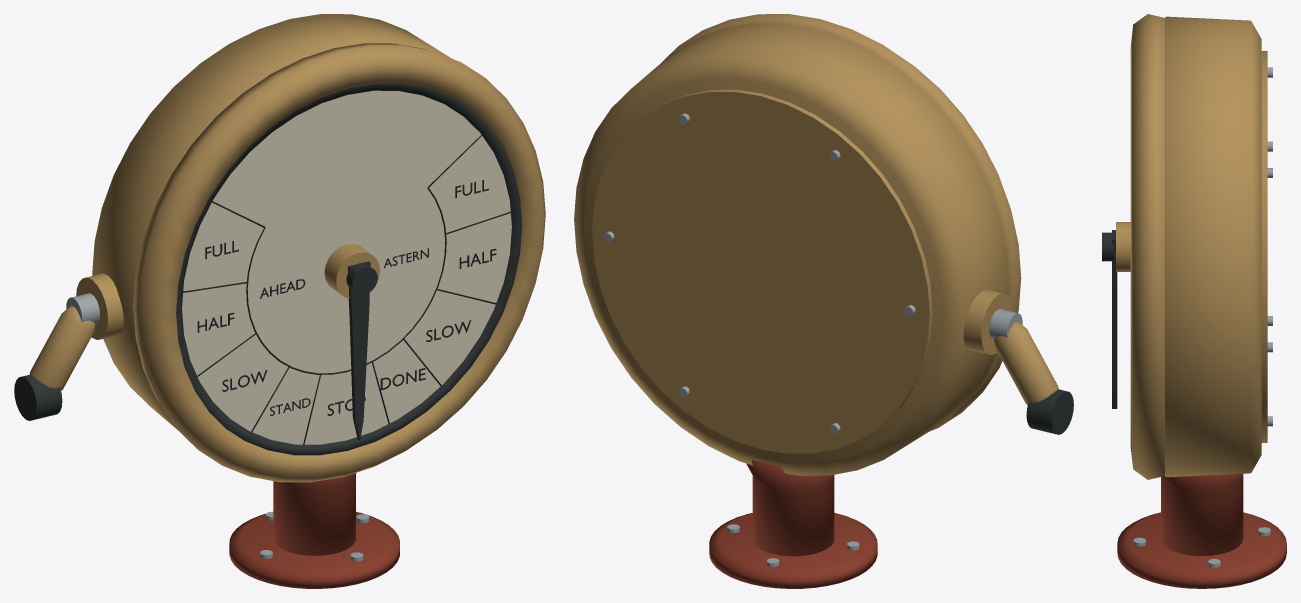
3 renders of one model, left to right at view 1: azimuth 30°, elevation 25°; view 2: azimuth 150°, elevation 25°; view 3: azimuth 270°, elevation 25°, orthographic.
Visible parts, largest first — view 1: Solid pale command dial, Front raised brass bezel, Closed brass drum, Recessed dark dial retaining ring, Grounded circular mounting flange, Short mounting neck, Short inferred side linkage, Original downward command pointer, Left side pivot boss, Side linkage end cap, Pointer support boss, Inner order arc (+2 smaller); view 2: Generic rear circular cover, Closed brass drum, Grounded circular mounting flange, Short mounting neck, Front raised brass bezel, Short inferred side linkage, Left side pivot boss, Side linkage end cap, Left side shaft; view 3: Closed brass drum, Front raised brass bezel, Grounded circular mounting flange, Short mounting neck, Generic rear circular cover, Original downward command pointer, Pointer support boss, Pointer central cap.
Part boxes in pixels (<box>): Solid pale command dial: <box>182,90,511,444</box>; Front raised brass bezel: <box>133,43,545,482</box>; Closed brass drum: <box>92,14,451,430</box>; Recessed dark dial retaining ring: <box>176,83,522,455</box>; Grounded circular mounting flange: <box>229,511,399,588</box>; Short mounting neck: <box>273,472,356,555</box>; Short inferred side linkage: <box>29,306,95,390</box>; Original downward command pointer: <box>347,261,370,440</box>; Left side pivot boss: <box>76,273,123,339</box>; Side linkage end cap: <box>14,374,62,420</box>; Pointer support boss: <box>324,244,379,298</box>; Inner order arc: <box>246,188,446,374</box>; Generic rear circular cover: <box>592,89,932,453</box>; Closed brass drum: <box>574,23,1009,475</box>; Grounded circular mounting flange: <box>709,513,877,588</box>; Short mounting neck: <box>746,460,834,556</box>; Front raised brass bezel: <box>661,14,1021,431</box>; Short inferred side linkage: <box>994,322,1058,404</box>; Left side pivot boss: <box>963,289,1012,354</box>; Side linkage end cap: <box>1026,389,1073,434</box>; Left side shaft: <box>989,309,1022,339</box>; Closed brass drum: <box>1165,16,1261,477</box>; Front raised brass bezel: <box>1130,14,1164,479</box>; Grounded circular mounting flange: <box>1117,512,1286,588</box>; Short mounting neck: <box>1161,473,1243,555</box>; Generic rear circular cover: <box>1261,51,1267,442</box>; Original downward command pointer: <box>1112,230,1117,408</box>; Pointer support boss: <box>1116,222,1130,271</box>; Pointer central cap: <box>1102,232,1113,261</box>.
Bounding box in the file's own units: 0.419 × 0.431 × 0.1395.
